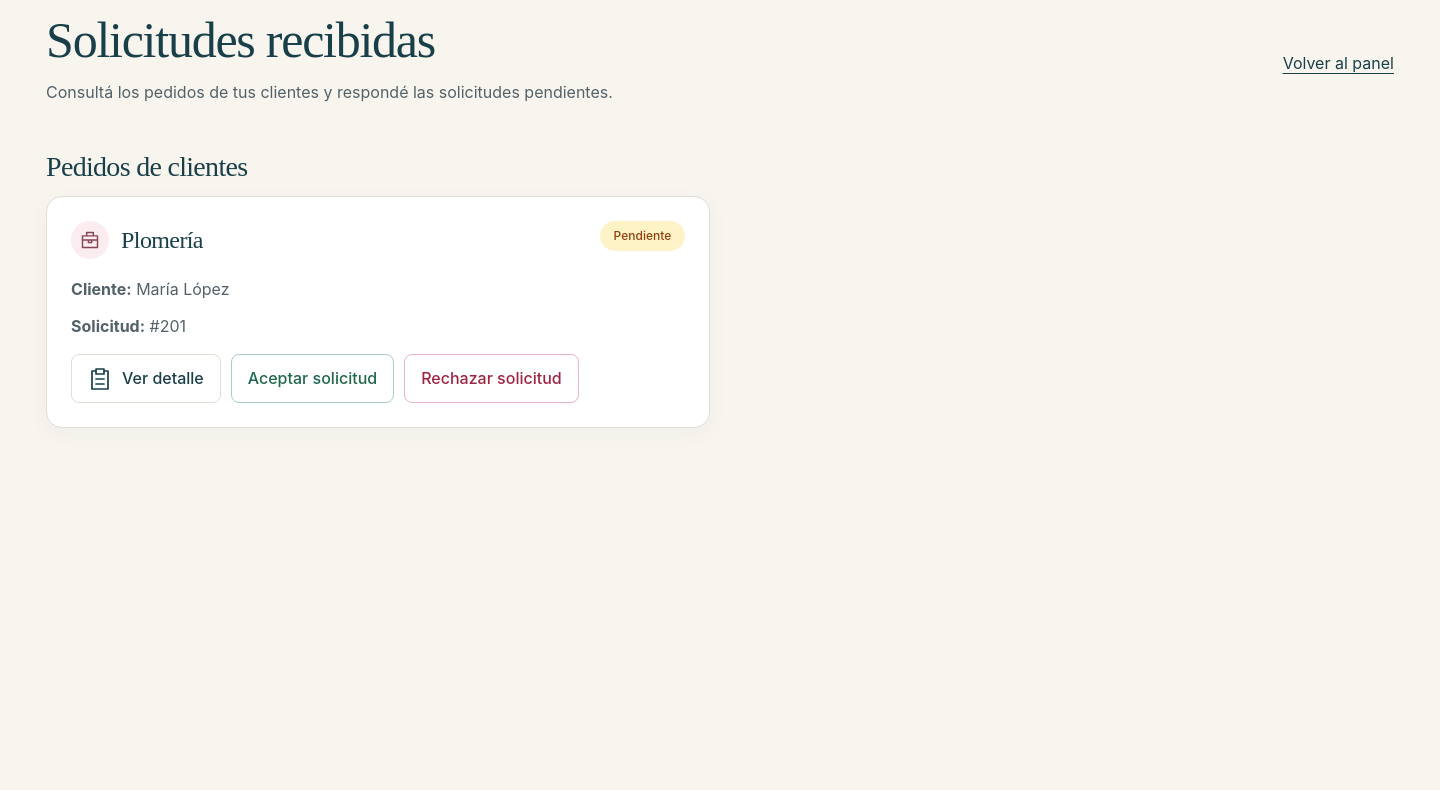
Test: F-13 - Pantalla de solicitudes del prestador › permite volver sin aceptar
Click the button "Aceptar solicitud": [312, 379] box [231,354,394,403]
(page scrolled)
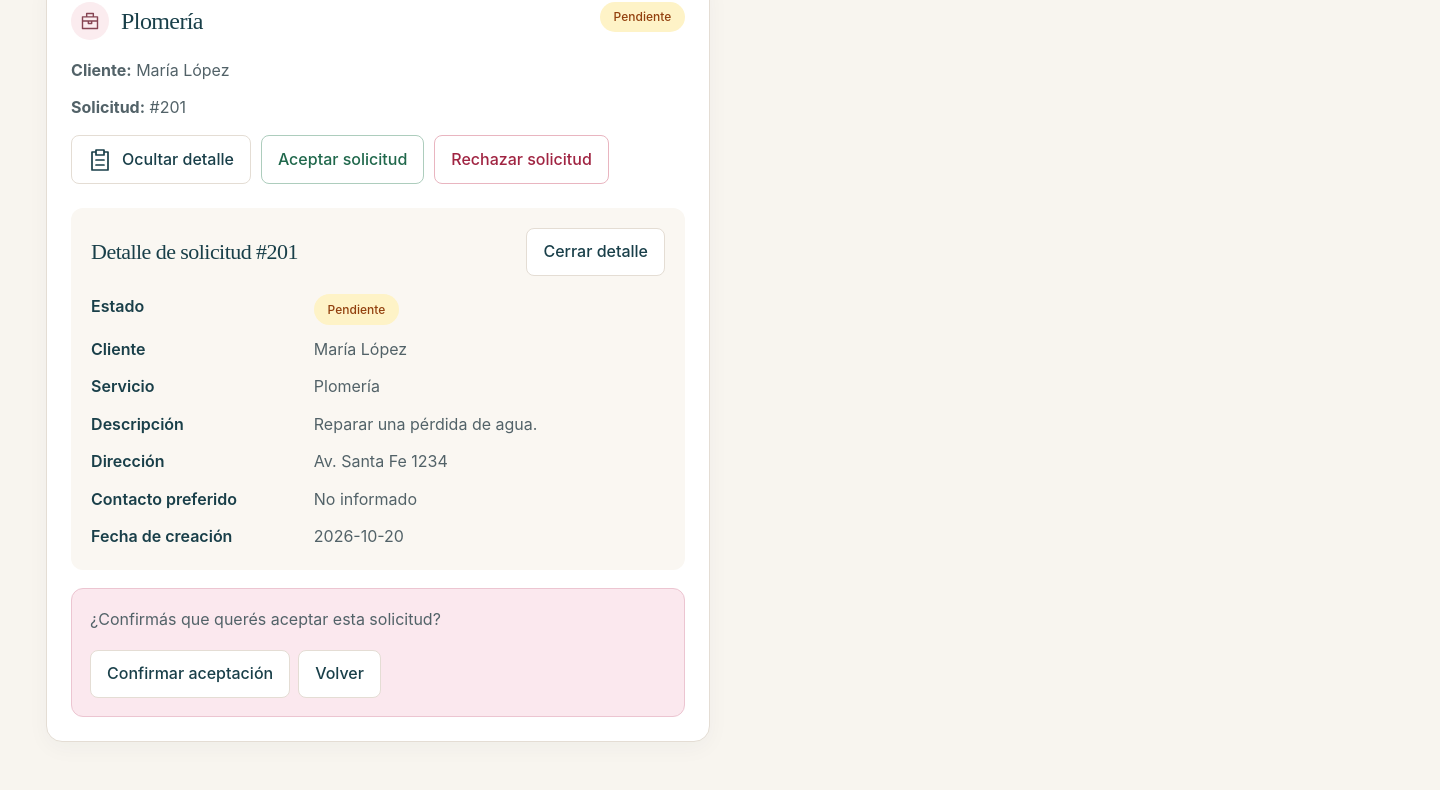
Click the button "Volver": [340, 674] box [298,650,381,698]
(page scrolled)
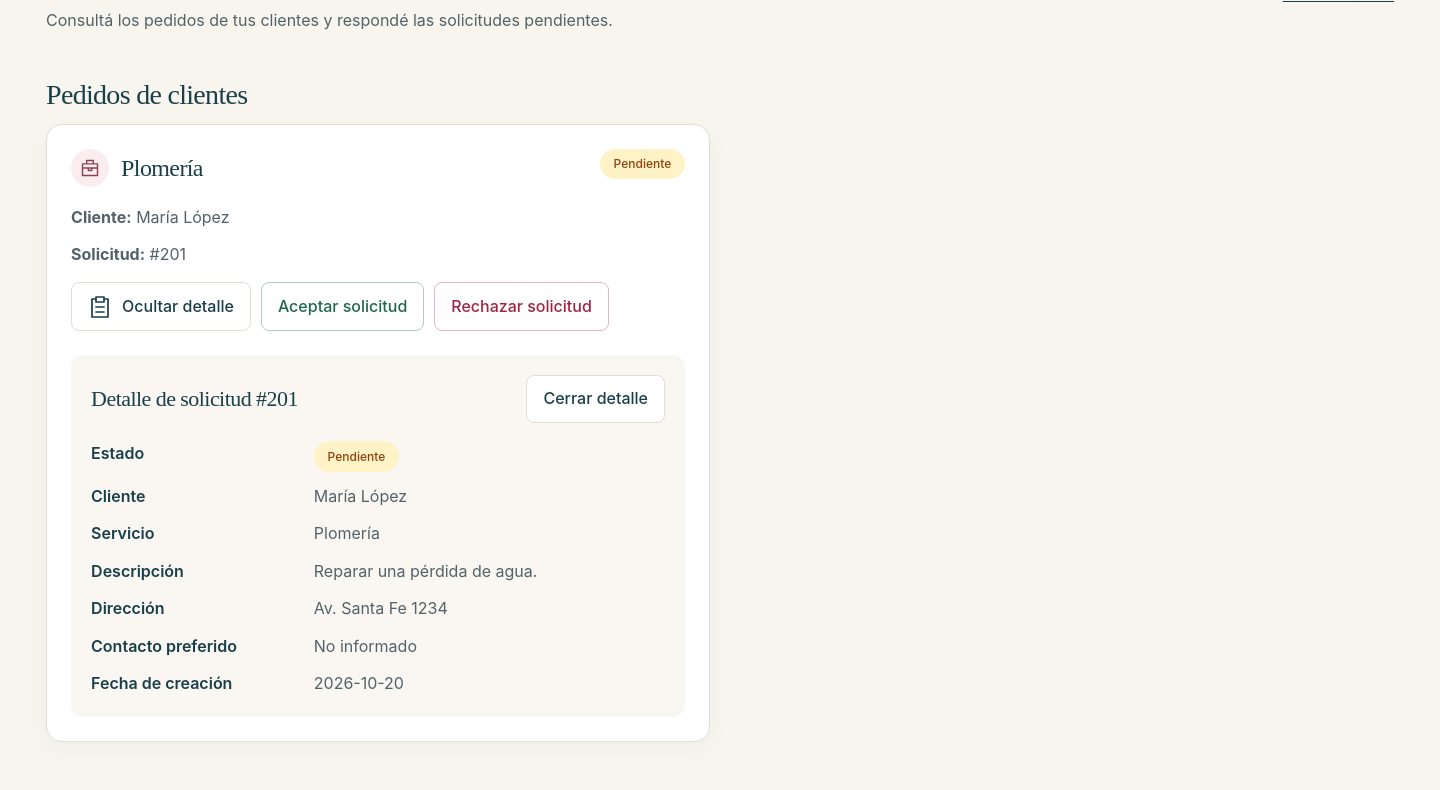
Result: the button "Confirmar aceptación" is gone
